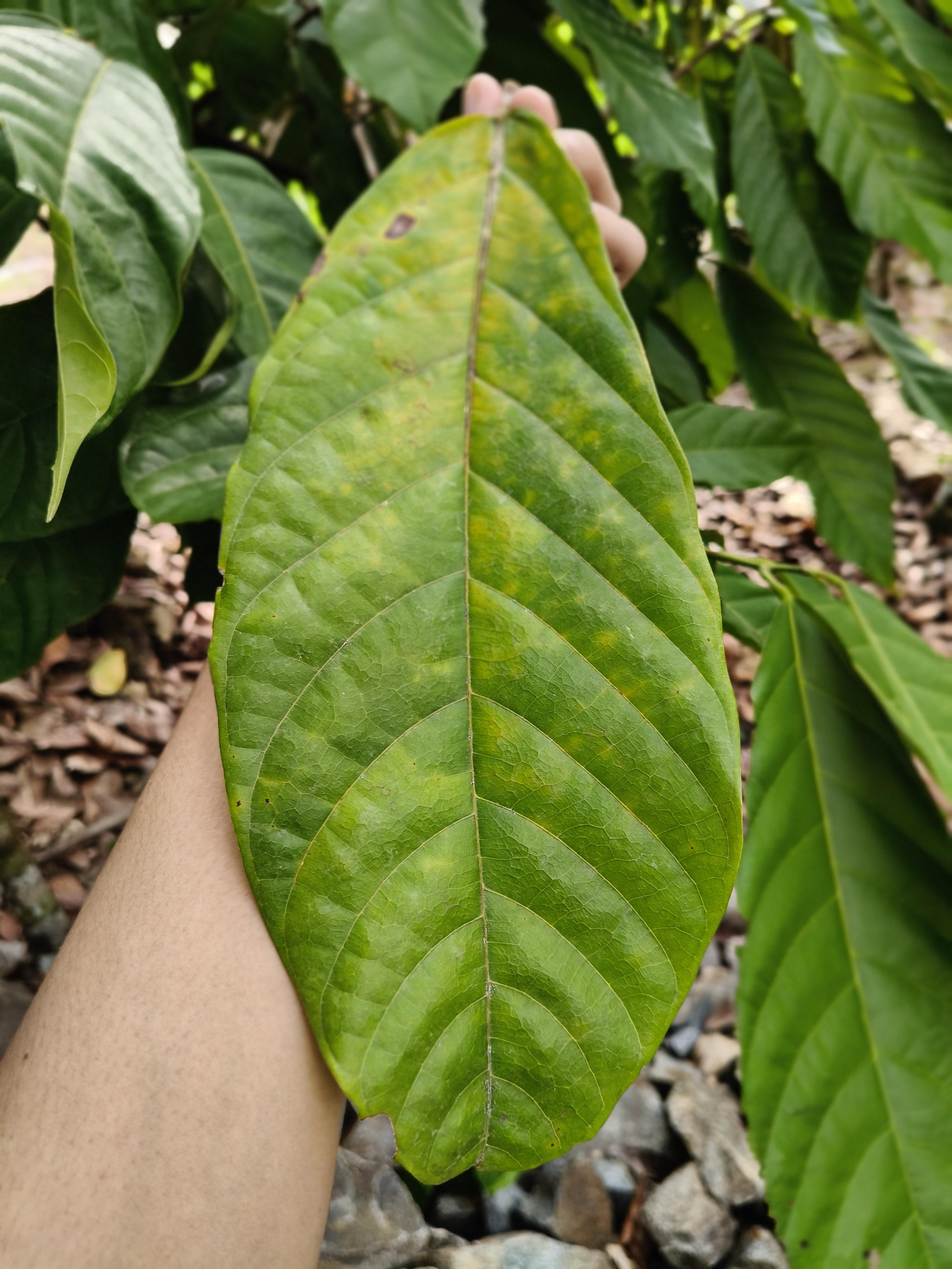deficiencia_potasio: (198, 108, 719, 1218)
